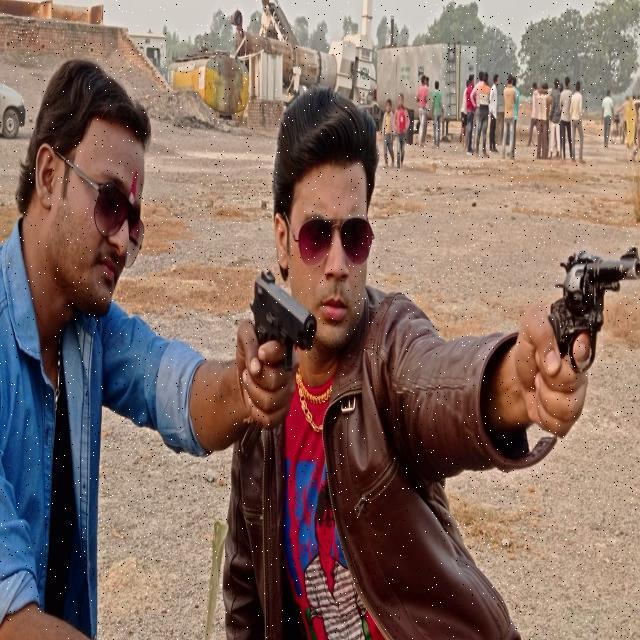gun: (541, 236, 640, 375), (246, 263, 320, 379)
